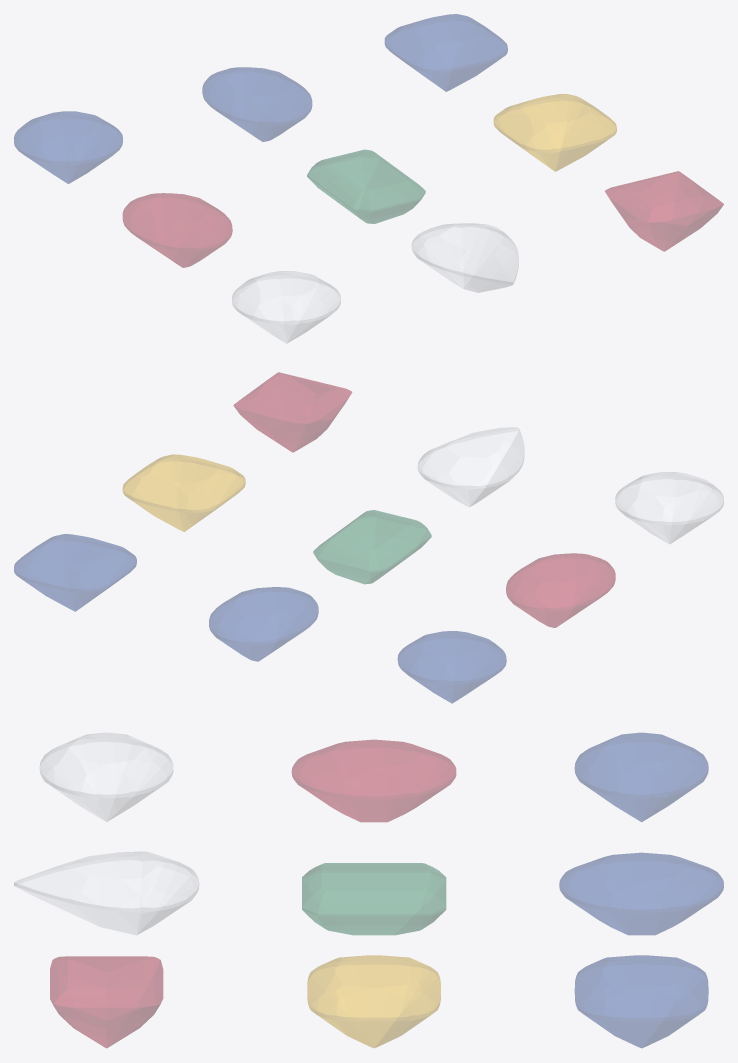
Rendered from GemShowcase.glb.
The picture shows the model from 3 angles, top to bottom: view 1: azimuth 30°, elevation 25°; view 2: azimuth 150°, elevation 25°; view 3: azimuth 270°, elevation 25°; orthographic projection. The views are drawn at different scales.
Visible parts, largest first — view 1: Showcase_Yellow_Sapphire, Showcase_Cushion_Sapphire, Showcase_Princess_Ruby, Showcase_Oval_Sapphire, Showcase_Ruby, Showcase_Pear_Diamondstyle, Showcase_Emerald, Showcase_Round_Sapphire, Showcase_Diamondstyle; view 2: Showcase_Cushion_Sapphire, Showcase_Yellow_Sapphire, Showcase_Pear_Diamondstyle, Showcase_Princess_Ruby, Showcase_Oval_Sapphire, Showcase_Ruby, Showcase_Emerald, Showcase_Round_Sapphire, Showcase_Diamondstyle; view 3: Showcase_Pear_Diamondstyle, Showcase_Oval_Sapphire, Showcase_Ruby, Showcase_Yellow_Sapphire, Showcase_Cushion_Sapphire, Showcase_Emerald, Showcase_Princess_Ruby, Showcase_Round_Sapphire, Showcase_Diamondstyle.
Boxes of the visible parts, x1=… form: Showcase_Yellow_Sapphire: x1=494, y1=94, x2=616, y2=171; Showcase_Cushion_Sapphire: x1=385, y1=14, x2=507, y2=91; Showcase_Princess_Ruby: x1=605, y1=171, x2=723, y2=251; Showcase_Oval_Sapphire: x1=202, y1=67, x2=311, y2=141; Showcase_Ruby: x1=123, y1=193, x2=232, y2=267; Showcase_Pear_Diamondstyle: x1=412, y1=223, x2=518, y2=292; Showcase_Emerald: x1=307, y1=150, x2=425, y2=223; Showcase_Round_Sapphire: x1=14, y1=111, x2=122, y2=183; Showcase_Diamondstyle: x1=232, y1=271, x2=340, y2=343; Showcase_Cushion_Sapphire: x1=14, y1=534, x2=136, y2=611; Showcase_Yellow_Sapphire: x1=123, y1=454, x2=245, y2=531; Showcase_Pear_Diamondstyle: x1=418, y1=427, x2=524, y2=506; Showcase_Princess_Ruby: x1=233, y1=372, x2=351, y2=452; Showcase_Oval_Sapphire: x1=209, y1=587, x2=318, y2=661; Showcase_Ruby: x1=506, y1=553, x2=615, y2=627; Showcase_Emerald: x1=313, y1=510, x2=431, y2=583; Showcase_Round_Sapphire: x1=398, y1=631, x2=506, y2=703; Showcase_Diamondstyle: x1=615, y1=472, x2=723, y2=544; Showcase_Pear_Diamondstyle: x1=14, y1=852, x2=198, y2=934; Showcase_Oval_Sapphire: x1=559, y1=853, x2=723, y2=934; Showcase_Ruby: x1=292, y1=740, x2=455, y2=821; Showcase_Yellow_Sapphire: x1=307, y1=955, x2=440, y2=1047; Showcase_Cushion_Sapphire: x1=575, y1=955, x2=708, y2=1047; Showcase_Emerald: x1=302, y1=863, x2=445, y2=934; Showcase_Princess_Ruby: x1=50, y1=956, x2=162, y2=1047; Showcase_Round_Sapphire: x1=575, y1=733, x2=708, y2=821; Showcase_Diamondstyle: x1=40, y1=733, x2=172, y2=821.
Size of the model in its own units: 0.0325 by 0.00412 by 0.0345.
